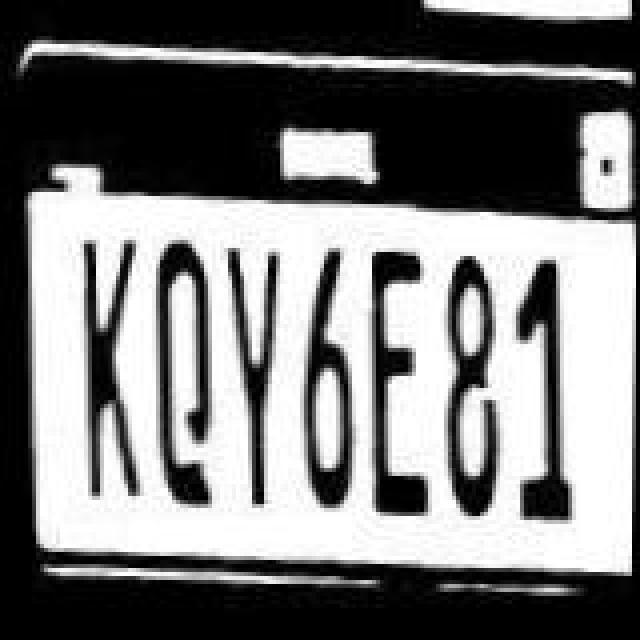1: (502, 248, 582, 528)
6: (296, 240, 364, 512)
8: (432, 246, 508, 526)
E: (358, 242, 438, 522)
K: (70, 232, 150, 504)
Q: (146, 232, 226, 512)
Y: (216, 236, 292, 512)
